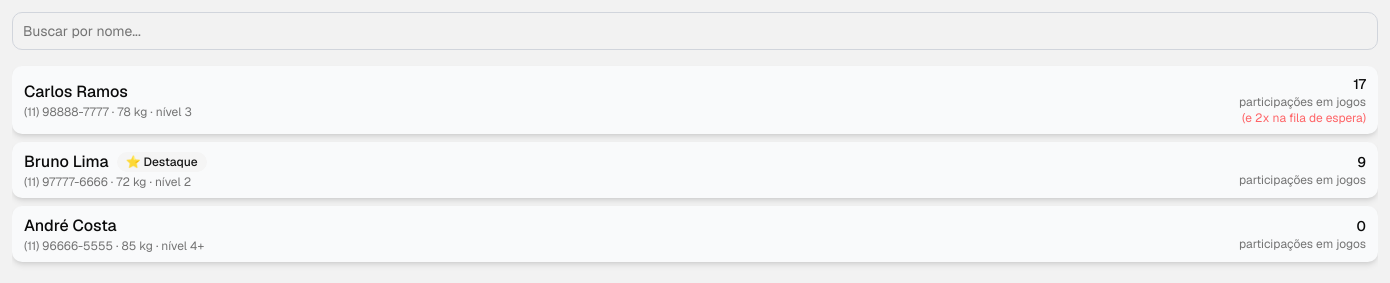
Test: PlayersListClient › empty states › shows search-empty message when search has no results
The width and height of the screenshot is (1390, 283).
Type "XYZXYZ" into the field with placeholder "Buscar por nome..." at (695,31), box [12,12,1378,50]
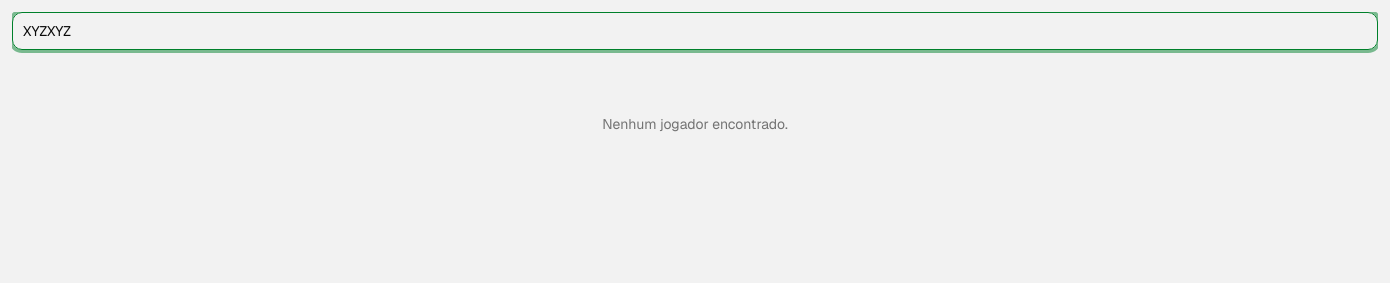
expect the text "Nenhum jogador encontrado." is shown: met, box [602,115,788,133]
